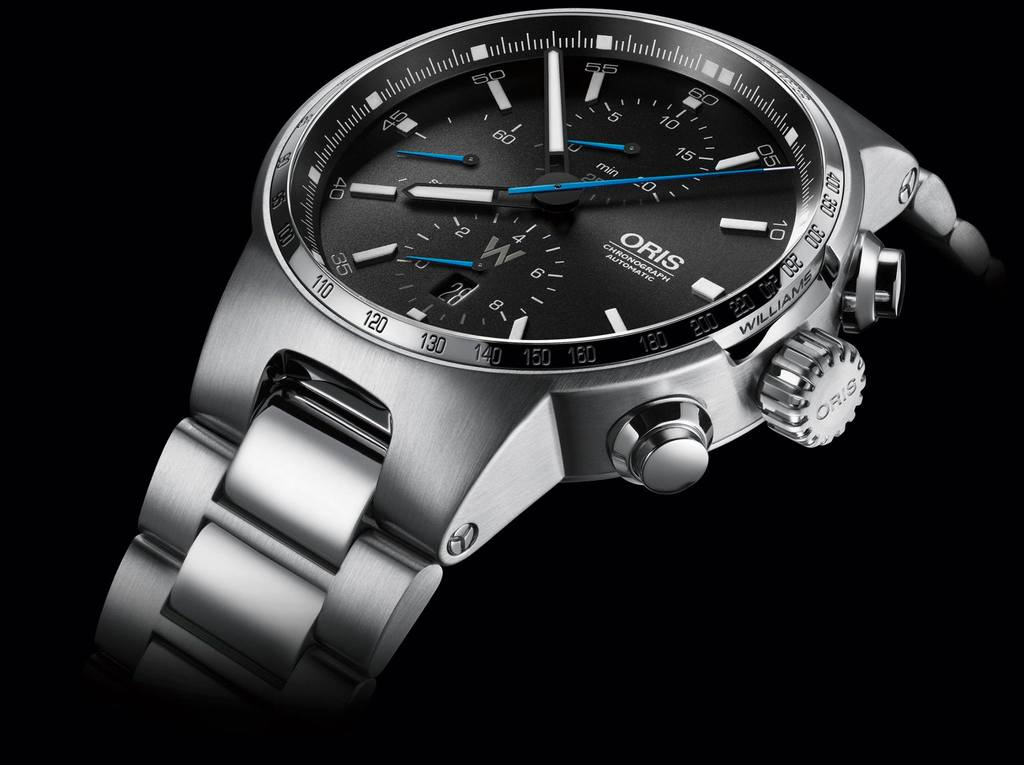watch: (88, 8, 989, 759)
